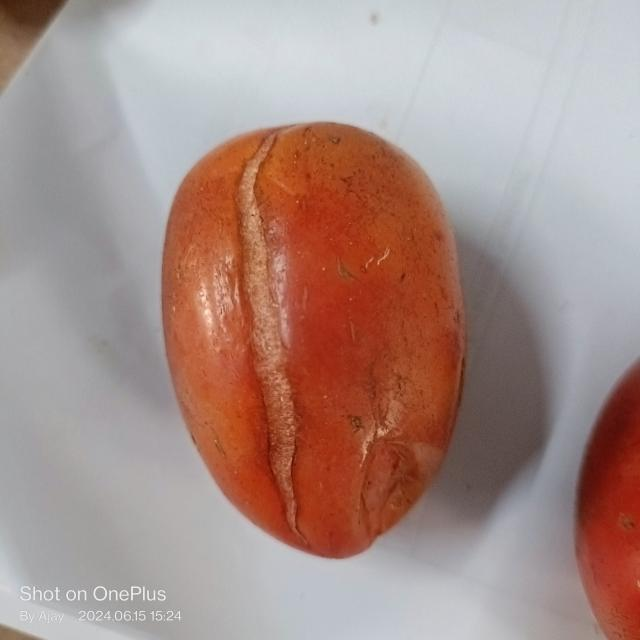tomato_cracking: (228, 108, 301, 533)
